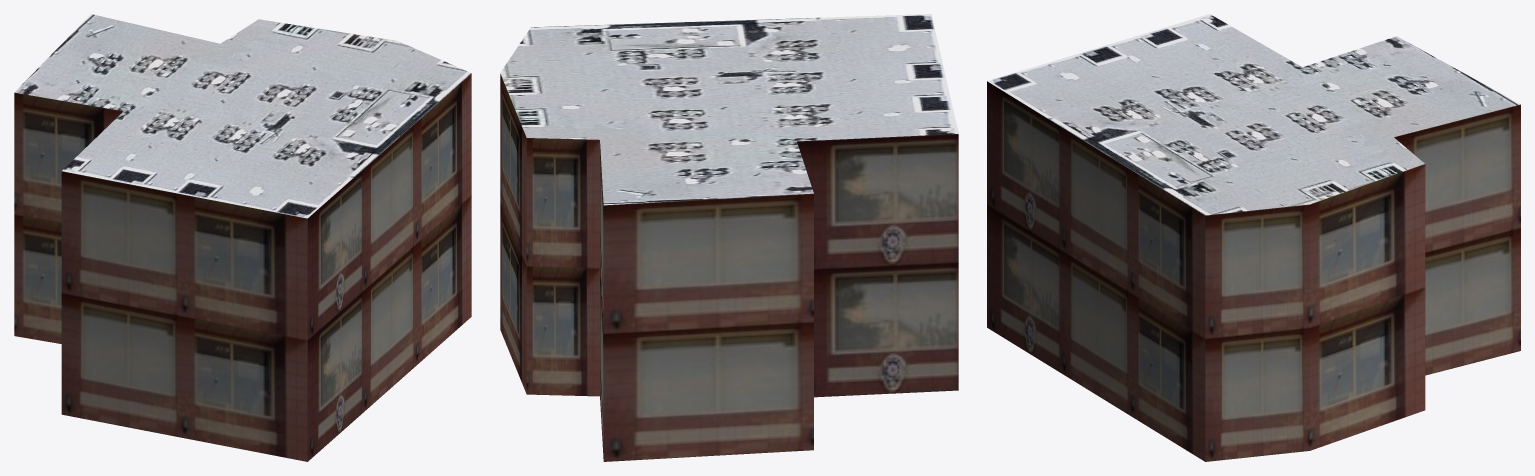
Rendered from ResTex__50.fbx.
The picture shows the model from 3 angles, left to right: view 1: azimuth 30°, elevation 25°; view 2: azimuth 150°, elevation 25°; view 3: azimuth 270°, elevation 25°; orthographic projection. The views are drawn at different scales.
Parts seen in each view (by area): view 1: CityEngineMaterial_13_m, CityEngineMaterial_m; view 2: CityEngineMaterial_13_m, CityEngineMaterial_m; view 3: CityEngineMaterial_13_m, CityEngineMaterial_m.
Part boxes in pixels (left/top/right/bottom): CityEngineMaterial_13_m: left=14, top=73, right=471, bottom=461; CityEngineMaterial_m: left=14, top=14, right=471, bottom=218; CityEngineMaterial_13_m: left=500, top=74, right=958, bottom=461; CityEngineMaterial_m: left=500, top=14, right=958, bottom=205; CityEngineMaterial_13_m: left=987, top=81, right=1520, bottom=461; CityEngineMaterial_m: left=987, top=14, right=1520, bottom=215.
Size of the model in its own units: 10.52 by 6 by 11.78.
Materials: 2 (2 with a texture image).
